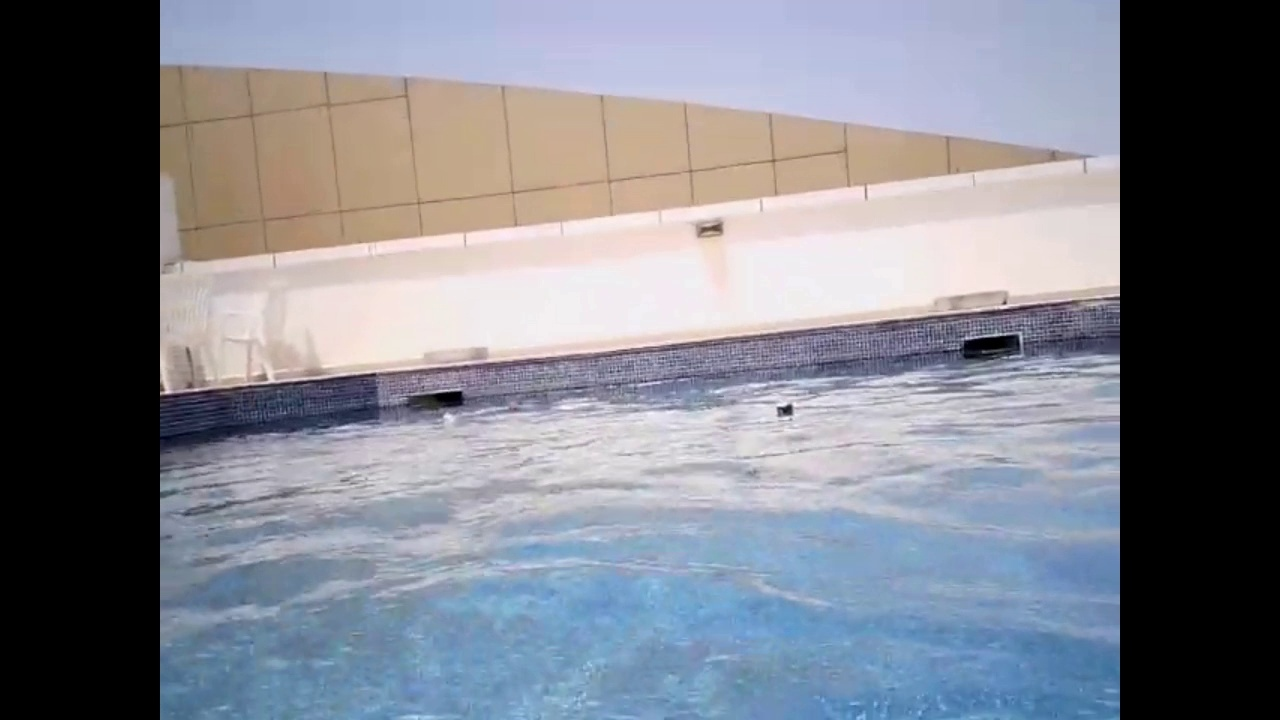debris: (770, 399, 797, 423), (438, 410, 456, 427), (502, 399, 523, 413)
